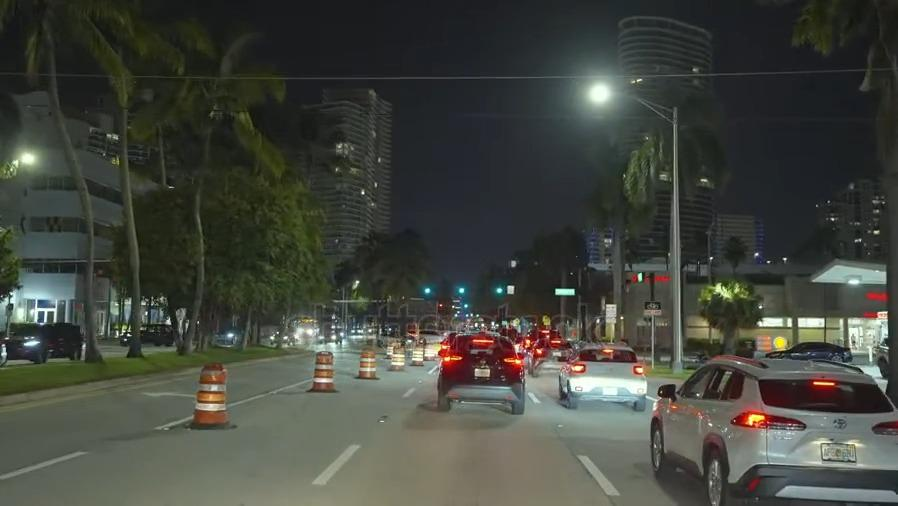car: (657, 355, 898, 506), (436, 332, 527, 415), (556, 344, 647, 409), (7, 320, 88, 363), (769, 338, 855, 362), (117, 319, 180, 349), (529, 333, 572, 372), (213, 325, 249, 345)
cone: (195, 359, 230, 427), (309, 350, 335, 391), (357, 348, 376, 378), (388, 344, 403, 371), (410, 342, 426, 367)
traffic light: (488, 281, 508, 299), (451, 283, 470, 299), (421, 280, 434, 300)
wheel: (700, 443, 727, 506), (649, 416, 668, 476)
